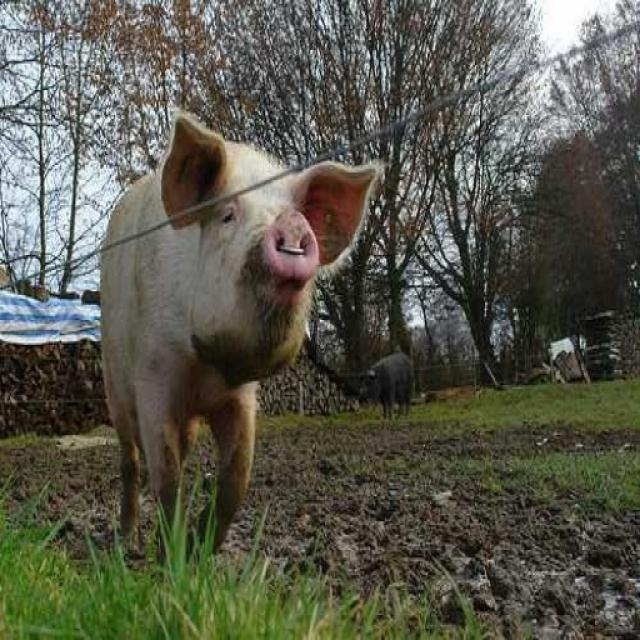pig: (67, 73, 368, 500)
